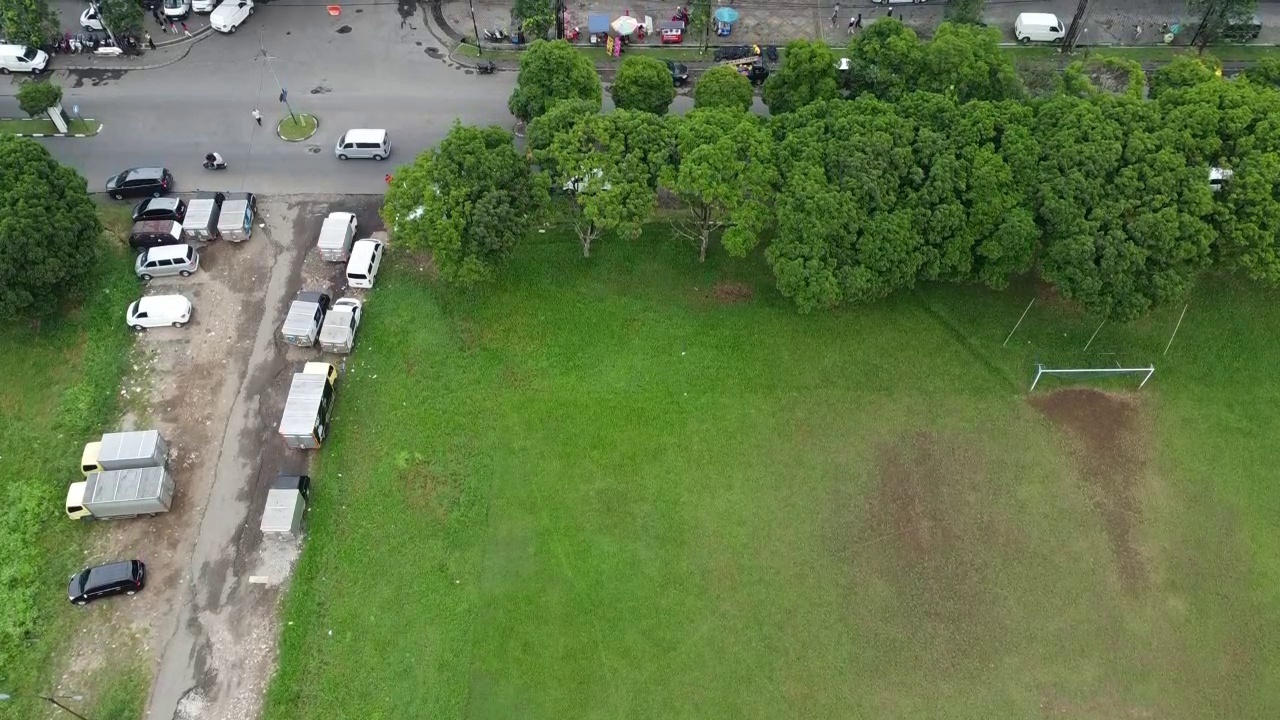mobil: (60, 549, 154, 607), (126, 288, 194, 335), (331, 115, 392, 167), (1010, 6, 1077, 53), (103, 161, 177, 200), (133, 243, 205, 281), (342, 235, 384, 290), (130, 195, 187, 227), (123, 217, 186, 245), (654, 52, 694, 91), (1, 42, 51, 72)
